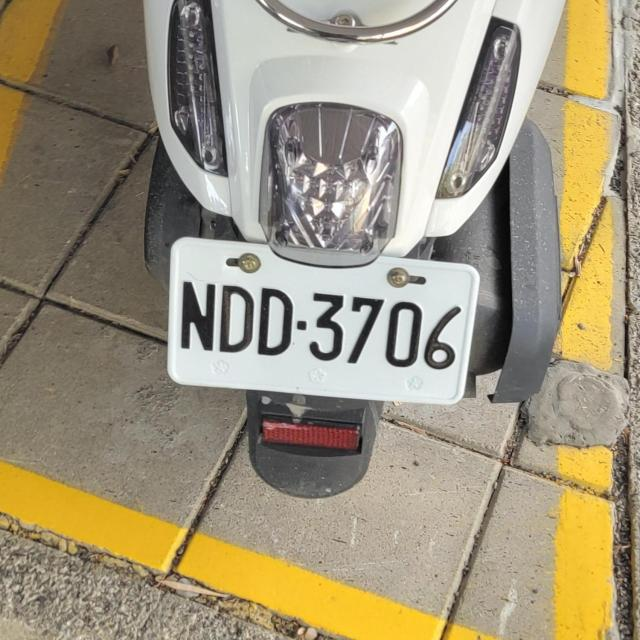W: (160, 228, 482, 411)
